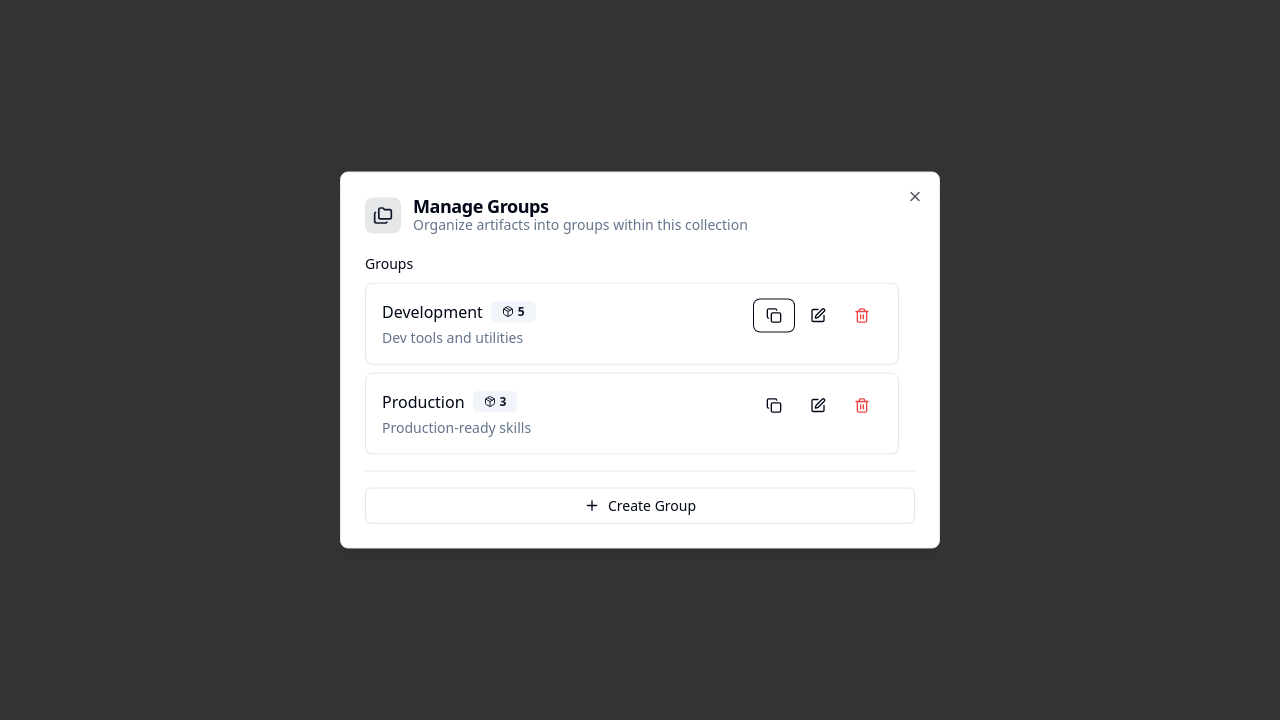
Scenario: ManageGroupsDialog › Delete Group › shows confirmation dialog when delete button is clicked
Click the 4th button: click(862, 316) top-left (842, 300), bottom-right (882, 332)
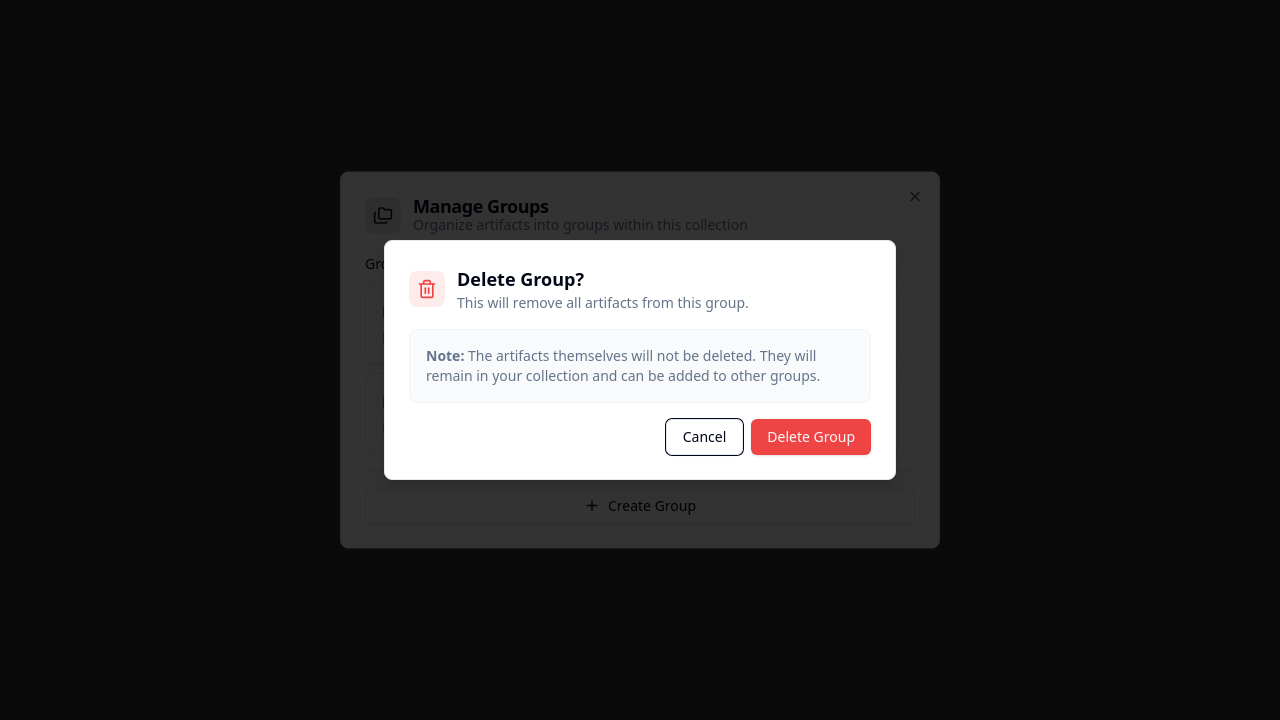
Check: the heading "Delete Group?" is shown, box top-left (457, 267), bottom-right (584, 291)
Check: the text "This will remove all artifacts from this group." is shown, box top-left (457, 293), bottom-right (749, 313)
Check: the text "The artifacts themselves will not be deleted" is shown, box top-left (426, 346), bottom-right (820, 385)
